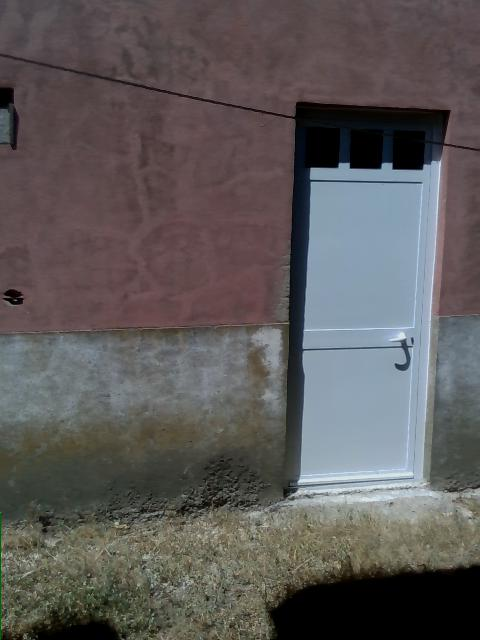closed_door: (289, 101, 445, 497)
